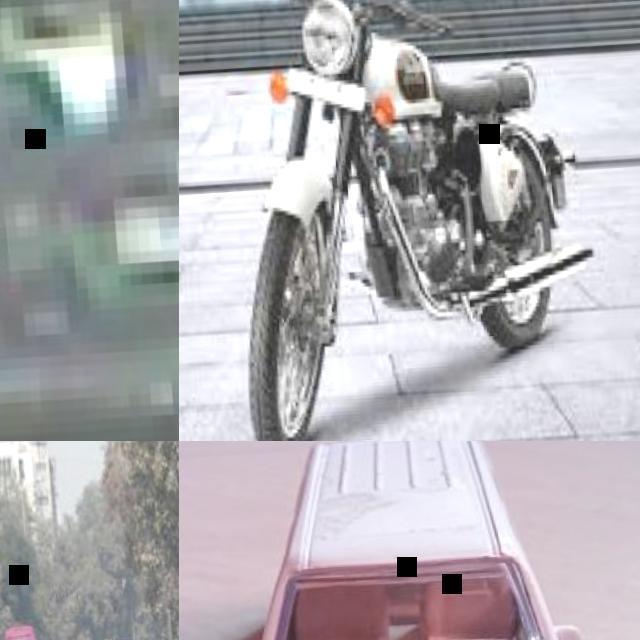car: (248, 6, 639, 639)
